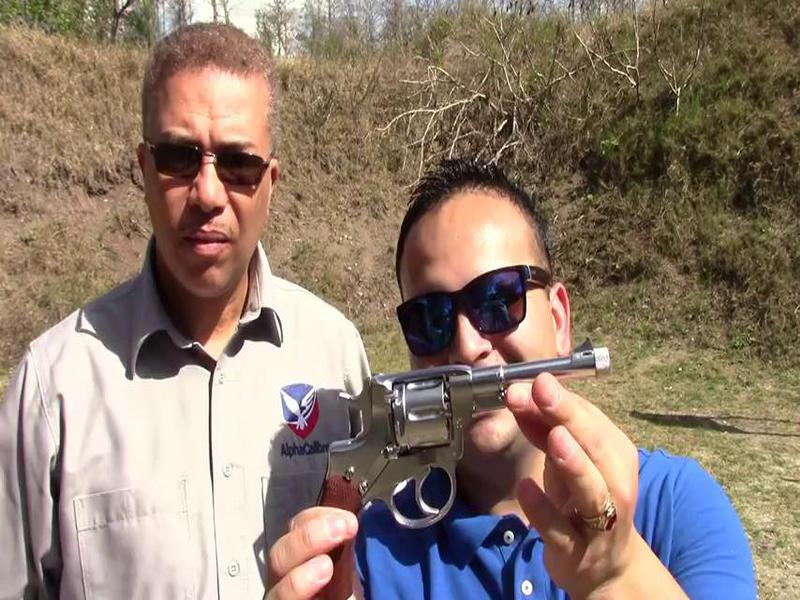Revolver: (298, 329, 610, 600)
